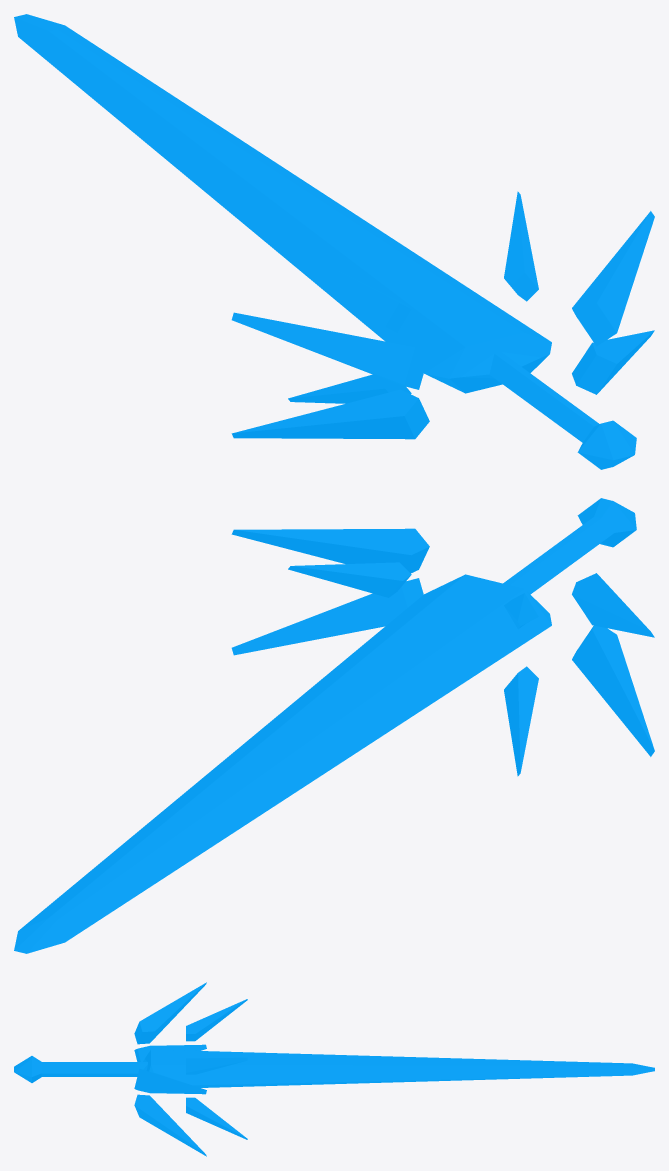
Rendered from sword.glb.
3 views of the same model, one above another, from view 1: azimuth 30°, elevation 25°; view 2: azimuth 150°, elevation 25°; view 3: azimuth 270°, elevation 25° (orthographic). The views are drawn at different scales.
Parts seen in each view (by area): view 1: Plane; view 2: Plane; view 3: Plane.
Boxes of the visible parts, x1,y1,x2,y2 form: Plane: [14, 14, 654, 469]; Plane: [14, 498, 654, 953]; Plane: [14, 982, 654, 1156].
Bounding box in the file's own units: 1.91 × 0.6696 × 4.71.
